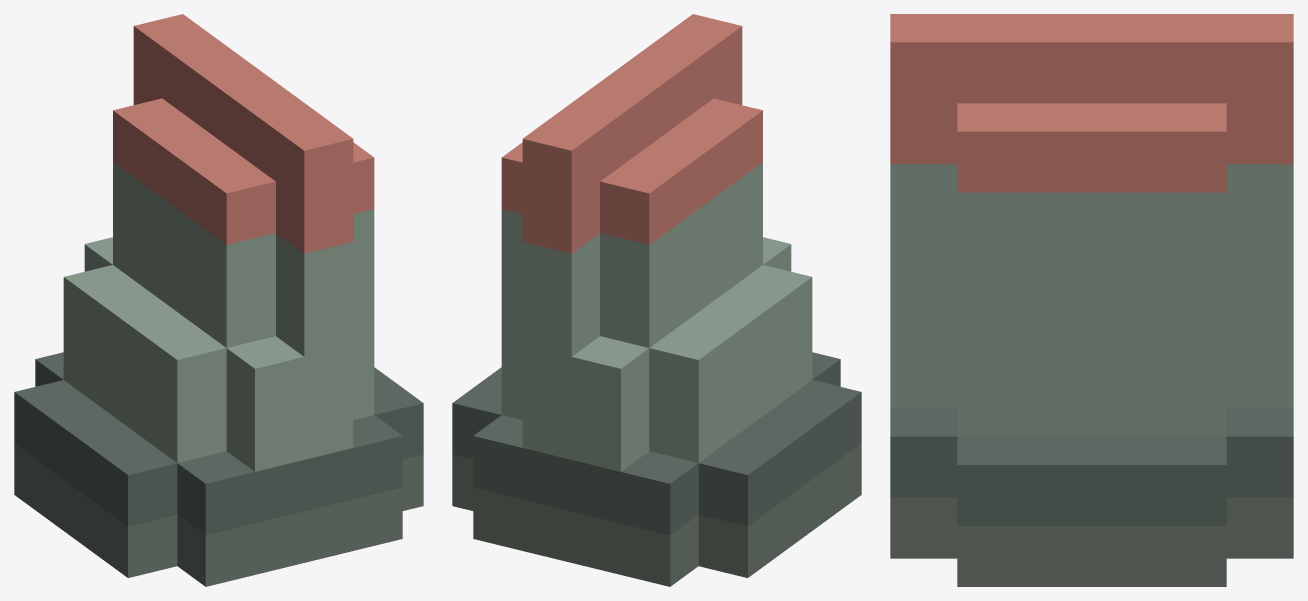
File: turret.glb
The picture shows the model from 3 angles, left to right: view 1: azimuth 30°, elevation 25°; view 2: azimuth 150°, elevation 25°; view 3: azimuth 270°, elevation 25°; orthographic projection. The views are drawn at different scales.
Size of the model in its own units: 6 by 8 by 6.
